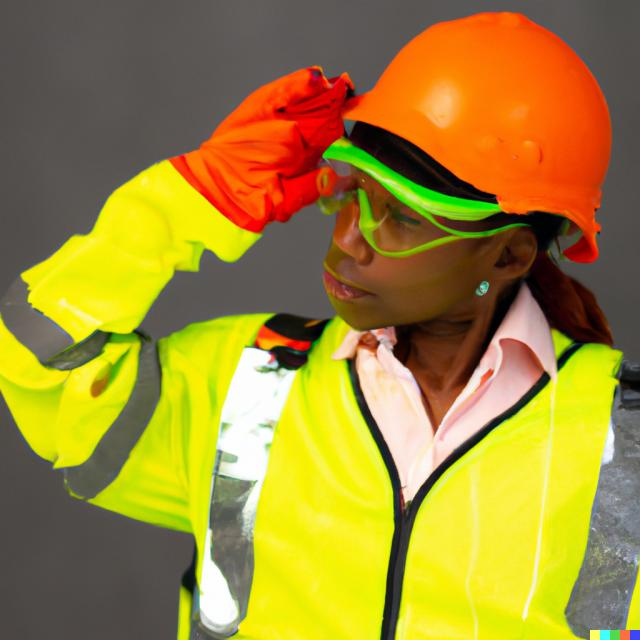Reflective-Jacket: (160, 316, 638, 640)
Safety-Helmet: (346, 11, 616, 235)
